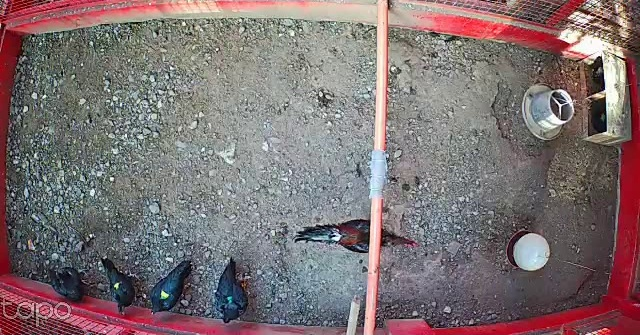Chicken: (214, 255, 256, 326), (99, 257, 143, 319), (39, 256, 91, 306), (149, 260, 193, 316)
Rooster: (289, 212, 420, 259)
Saddle_Color_Yellow: (114, 282, 122, 290)
Saddle_Color_YellowGreen: (160, 288, 169, 299)
